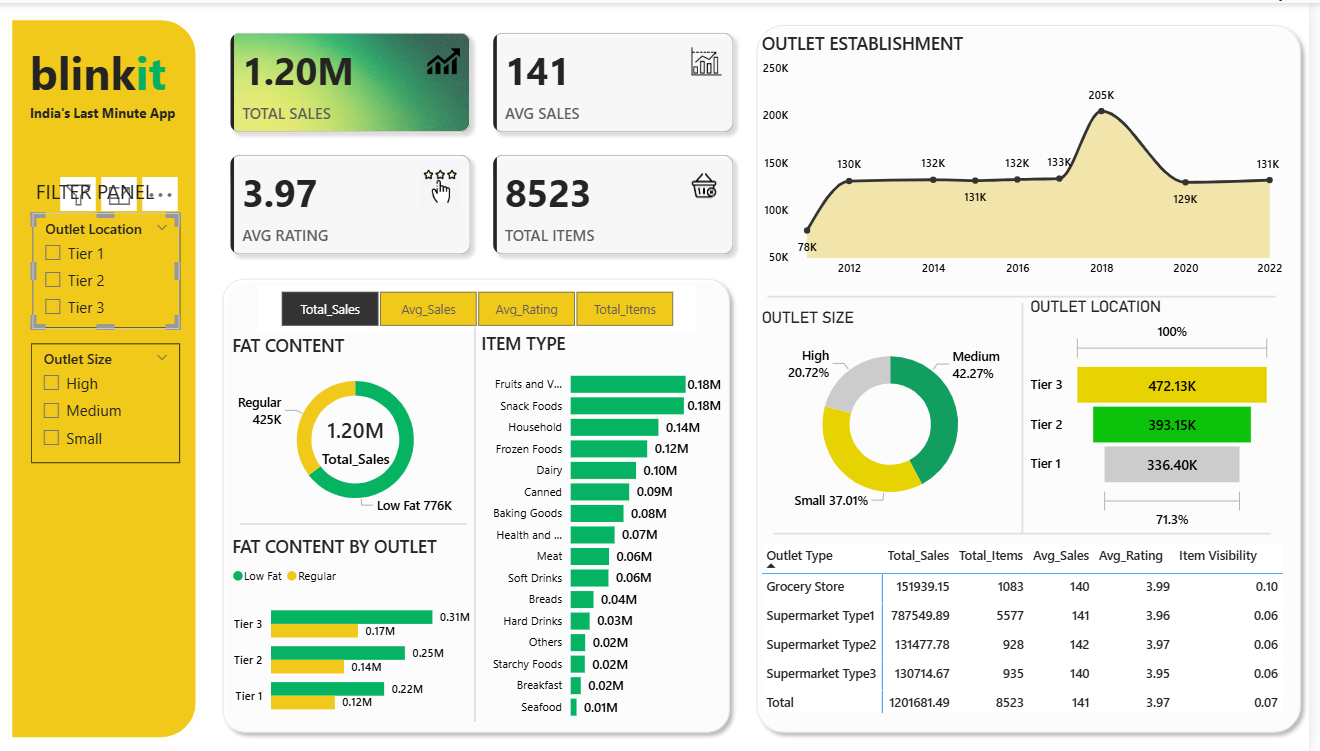

Layout of this report page (visuals, bound fields, positions):
{"tool":"powerbi","page":{"name":"Dashboard","canvas":[1400,800],"ordinal":0},"visuals":[{"type":"shape","box":[15,15,203.3,771.7],"z":0},{"type":"donutChart","title":"FAT CONTENT","fields":{"Y":["blinkit_data grocery_data.Total_Sales"],"Category":["blinkit_data grocery_data.Item Fat Content"]},"box":[248.3,351.7,271.7,201.7],"z":0,"group":"g1"},{"type":"textbox","box":[31.7,35,171.7,86.7],"z":1000},{"type":"card","fields":{"Values":["blinkit_data grocery_data.Total_Sales"]},"box":[313.3,423.4,141.7,85],"z":1000,"group":"g1"},{"type":"textbox","box":[31.7,100,171.7,81.7],"z":2000},{"type":"cardVisual","fields":{"Data":["blinkit_data grocery_data.Total_Sales","blinkit_data grocery_data.Avg_Sales","blinkit_data grocery_data.Avg_Rating","blinkit_data grocery_data.Total_Items"]},"box":[233.3,15,570,270],"z":3000},{"type":"shape","box":[233.3,285,558.3,501.7],"z":4000},{"type":"slicer","fields":{"Values":["Parameter.Parameter"]},"box":[280,300,466.7,50],"z":5000},{"type":"group","id":"g1","title":"Group 1","box":[248.3,351.7,271.7,201.7],"z":6000},{"type":"clusteredBarChart","title":"FAT CONTENT BY OUTLET","fields":{"Y":["blinkit_data grocery_data.Total_Sales"],"Category":["blinkit_data grocery_data.Outlet Location Type"],"Series":["blinkit_data grocery_data.Item Fat Content"]},"box":[248.3,565,265,208.3],"z":7000},{"type":"barChart","title":"ITEM TYPE","fields":{"Y":["blinkit_data grocery_data.Total_Sales"],"Category":["blinkit_data grocery_data.Item Type"]},"box":[513.3,350,265,423.3],"z":8000},{"type":"shape","box":[801.6,14.9,597.9,771.8],"z":9000},{"type":"lineChart","title":"OUTLET ESTABLISHMENT","fields":{"Y":["blinkit_data grocery_data.Total_Sales"],"Category":["blinkit_data grocery_data.Outlet Establishment Year"]},"box":[811.5,29.8,564.8,270],"z":10000},{"type":"shape","box":[260,539.9,241.8,29.8],"z":11000},{"type":"shape","box":[490.2,342.8,41.4,422.3],"z":12000},{"type":"shape","box":[823.1,299.8,541.6,24.8],"z":13000},{"type":"donutChart","title":"OUTLET SIZE","fields":{"Category":["blinkit_data grocery_data.Outlet Size"],"Y":["Sum(blinkit_data grocery_data.Sales)"]},"box":[811.5,324.6,283.2,228.6],"z":14000},{"type":"funnel","title":"OUTLET LOCATION","fields":{"Category":["blinkit_data grocery_data.Outlet Location Type"],"Y":["blinkit_data grocery_data.Total_Sales"]},"box":[1098,313,266.6,251.7],"z":15000},{"type":"shape","box":[1073.2,319.6,41.4,245.1],"z":16000},{"type":"pivotTable","fields":{"Values":["blinkit_data grocery_data.Total_Sales","blinkit_data grocery_data.Total_Items","blinkit_data grocery_data.Avg_Sales","blinkit_data grocery_data.Avg_Rating","Avg(blinkit_data grocery_data.Item Visibility)"],"Rows":["blinkit_data grocery_data.Outlet Type"]},"box":[811.5,569.7,574.7,203.7],"z":17000},{"type":"shape","box":[829.7,554.8,530,21.5],"z":18000},{"type":"slicer","fields":{"Values":["blinkit_data grocery_data.Outlet Location Type"]},"box":[39.7,223.6,157.3,122.6],"z":19000},{"type":"slicer","fields":{"Values":["blinkit_data grocery_data.Outlet Size"]},"box":[38.1,362.7,159,127.5],"z":20000},{"type":"textbox","box":[38.1,180.5,213.6,58],"z":21000}]}

Visuals, with their boxes in screenshot pixels (x1, y1, x2, y2), scaled from the page's 1400x800 canvas onto the 1320x751 screenshot:
shape: crop(14, 14, 206, 739)
"FAT CONTENT" donutChart: crop(234, 330, 490, 520)
textbox: crop(30, 33, 192, 114)
card - blinkit_data grocery_data.Total_Sales: crop(295, 397, 429, 477)
textbox: crop(30, 94, 192, 171)
cardVisual - blinkit_data grocery_data.Total_Sales x blinkit_data grocery_data.Avg_Sales: crop(220, 14, 757, 268)
shape: crop(220, 268, 746, 739)
slicer - Parameter.Parameter: crop(264, 282, 704, 329)
"Group 1" group: crop(234, 330, 490, 520)
"FAT CONTENT BY OUTLET" clusteredBarChart: crop(234, 530, 484, 726)
"ITEM TYPE" barChart: crop(484, 329, 734, 726)
shape: crop(756, 14, 1319, 739)
"OUTLET ESTABLISHMENT" lineChart: crop(765, 28, 1298, 281)
shape: crop(245, 507, 473, 535)
shape: crop(462, 322, 501, 718)
shape: crop(776, 281, 1287, 305)
"OUTLET SIZE" donutChart: crop(765, 305, 1032, 519)
"OUTLET LOCATION" funnel: crop(1035, 294, 1287, 530)
shape: crop(1012, 300, 1051, 530)
pivotTable - blinkit_data grocery_data.Total_Sales x blinkit_data grocery_data.Total_Items: crop(765, 535, 1307, 726)
shape: crop(782, 521, 1282, 541)
slicer - blinkit_data grocery_data.Outlet Location Type: crop(37, 210, 186, 325)
slicer - blinkit_data grocery_data.Outlet Size: crop(36, 340, 186, 460)
textbox: crop(36, 169, 237, 224)
